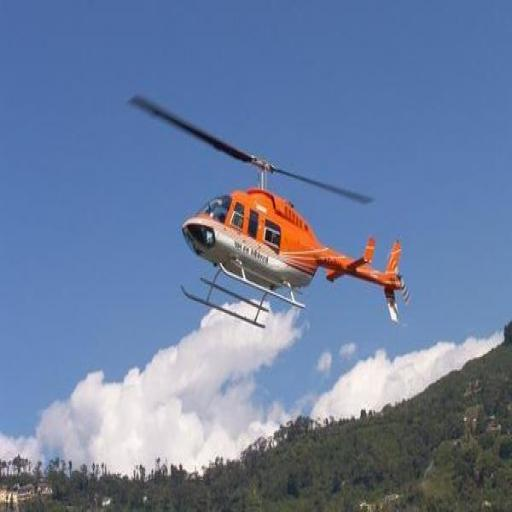helicopter: (123, 95, 396, 349)
